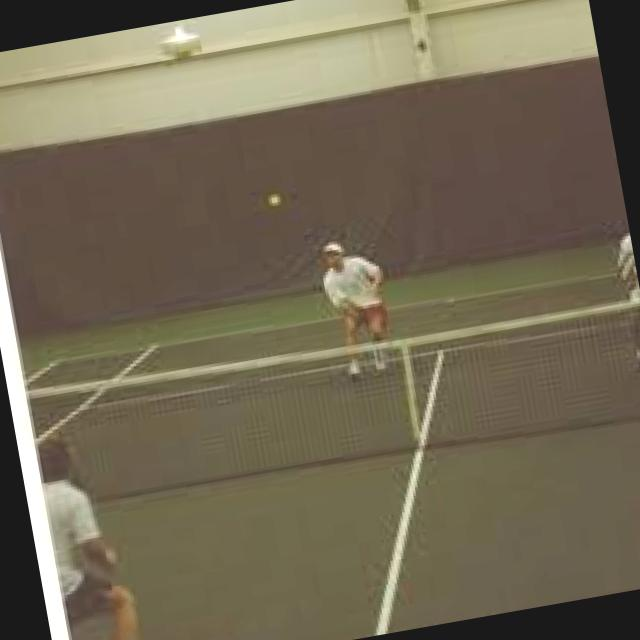Tennis Ball: (267, 192, 281, 205)
